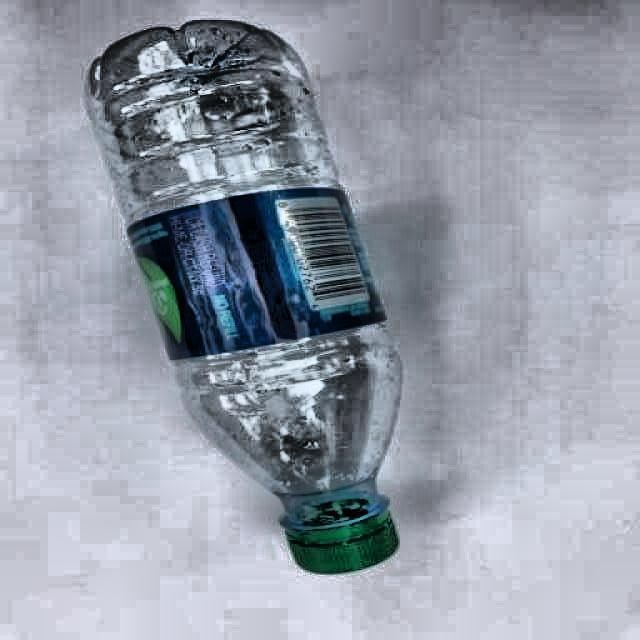plastic: (86, 21, 401, 572)
